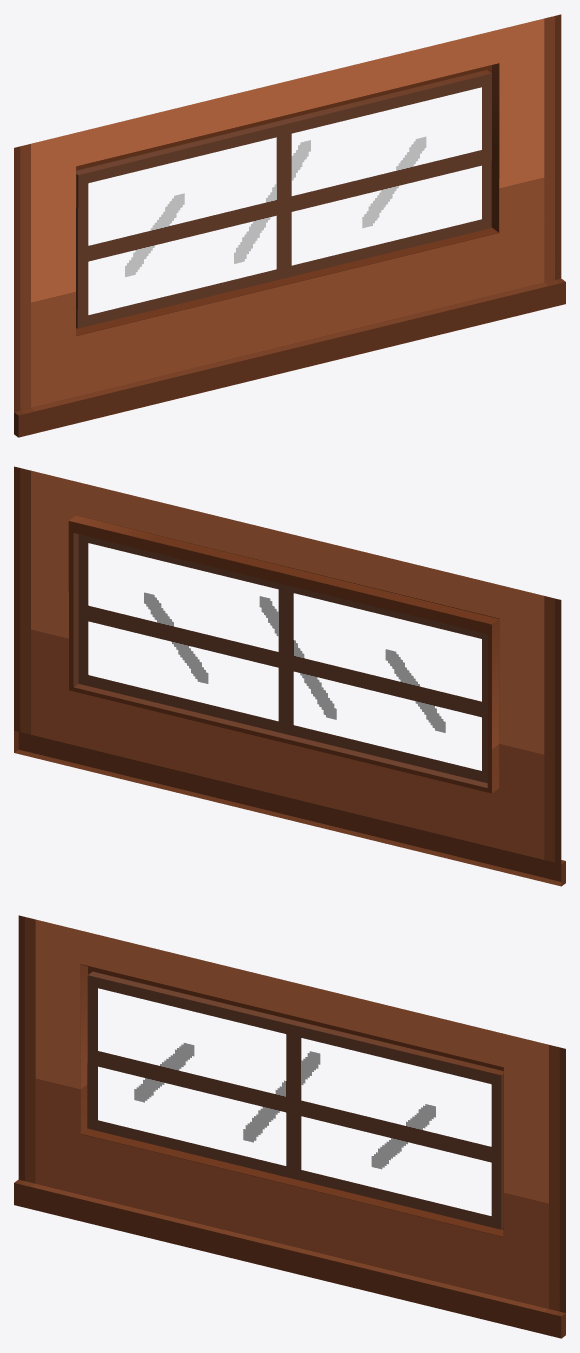
File: wall-window2.fbx
The picture shows the model from 3 angles, top to bottom: view 1: azimuth 30°, elevation 25°; view 2: azimuth 150°, elevation 25°; view 3: azimuth 330°, elevation 25°; orthographic projection.
Parts seen in each view (by area): view 1: Plane; view 2: Plane; view 3: Plane.
Boxes of the visible parts, x1,y1,x2,y2 form: Plane: (14, 14, 565, 437); Plane: (14, 466, 565, 886); Plane: (14, 915, 565, 1338).
Bounding box in the file's own units: 1536 × 768 × 58.04.
Materials: 1 (1 with a texture image).
